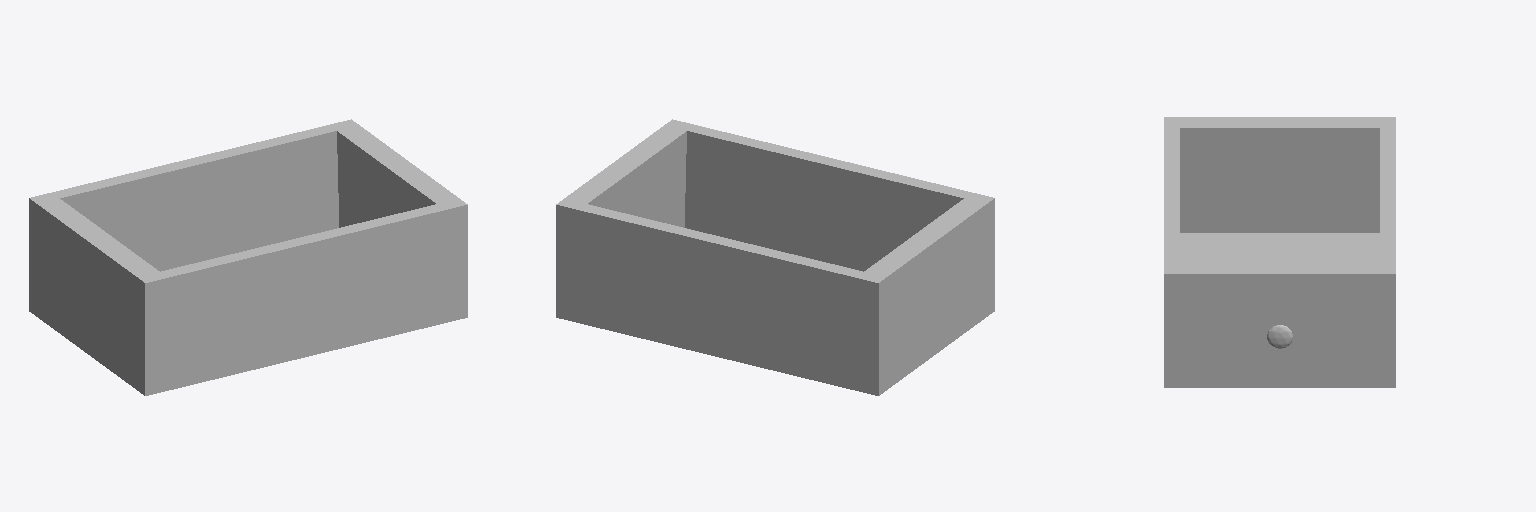
The model's file is Drawer.obj.
The picture shows the model from 3 angles: view 1: azimuth 30°, elevation 25°; view 2: azimuth 150°, elevation 25°; view 3: azimuth 270°, elevation 25°; orthographic projection.
Parts seen in each view (by area): view 1: Cube_Cube.001; view 2: Cube_Cube.001; view 3: Cube_Cube.001.
Boxes of the visible parts, x1,y1,x2,y2 form: Cube_Cube.001: [29, 119, 467, 395]; Cube_Cube.001: [556, 119, 994, 395]; Cube_Cube.001: [1164, 117, 1395, 387].
Size of the model in its own units: 0.4187 by 0.134 by 0.2502.